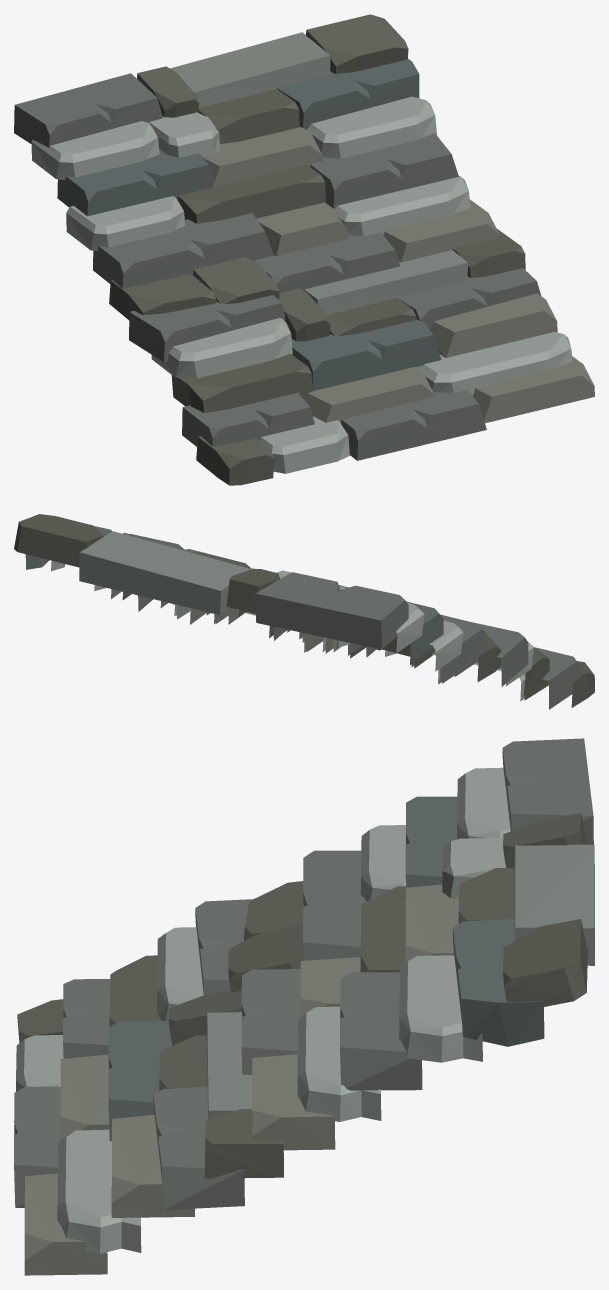
The model's file is ZLP_Stairs_A_9.FBX.
The picture shows the model from 3 angles, top to bottom: view 1: azimuth 30°, elevation 25°; view 2: azimuth 150°, elevation 25°; view 3: azimuth 270°, elevation 25°; orthographic projection. The views are drawn at different scales.
Parts seen in each view (by area): view 1: ZLP_Stairs_A_9; view 2: ZLP_Stairs_A_9; view 3: ZLP_Stairs_A_9.
Part boxes in pixels (x1=…): ZLP_Stairs_A_9: x1=14, y1=14, x2=594, y2=485; ZLP_Stairs_A_9: x1=14, y1=514, x2=594, y2=709; ZLP_Stairs_A_9: x1=14, y1=738, x2=594, y2=1275.
Bounding box in the file's own units: 464 × 279 × 473.
